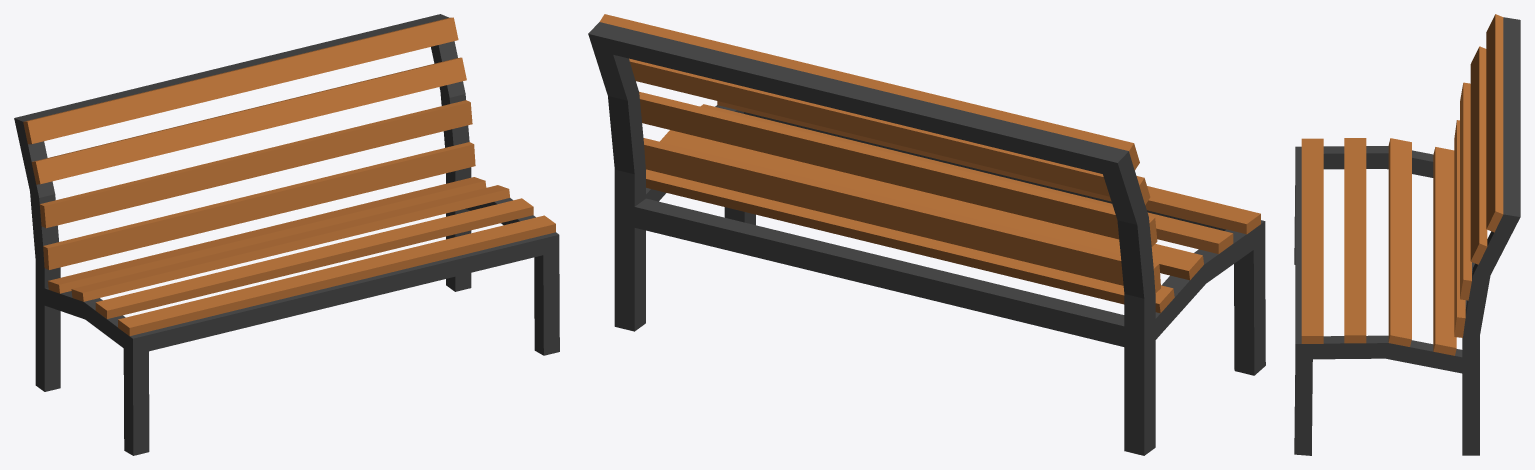
Rendered from Bench_Mesh.fbx.
3 views of the same model, side by side, from view 1: azimuth 30°, elevation 25°; view 2: azimuth 150°, elevation 25°; view 3: azimuth 270°, elevation 25° (orthographic). The views are drawn at different scales.
Visible parts, largest first — view 1: Bench; view 2: Bench; view 3: Bench.
Part boxes in pixels (x1,y1,x2,y2): Bench: (14, 14, 559, 455); Bench: (588, 14, 1265, 455); Bench: (1294, 14, 1520, 455).
Size of the model in its own units: 266 by 154 by 129.
